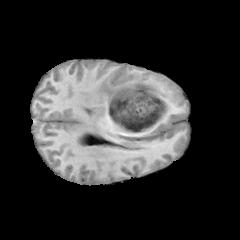glioma: (92, 67, 188, 149)
